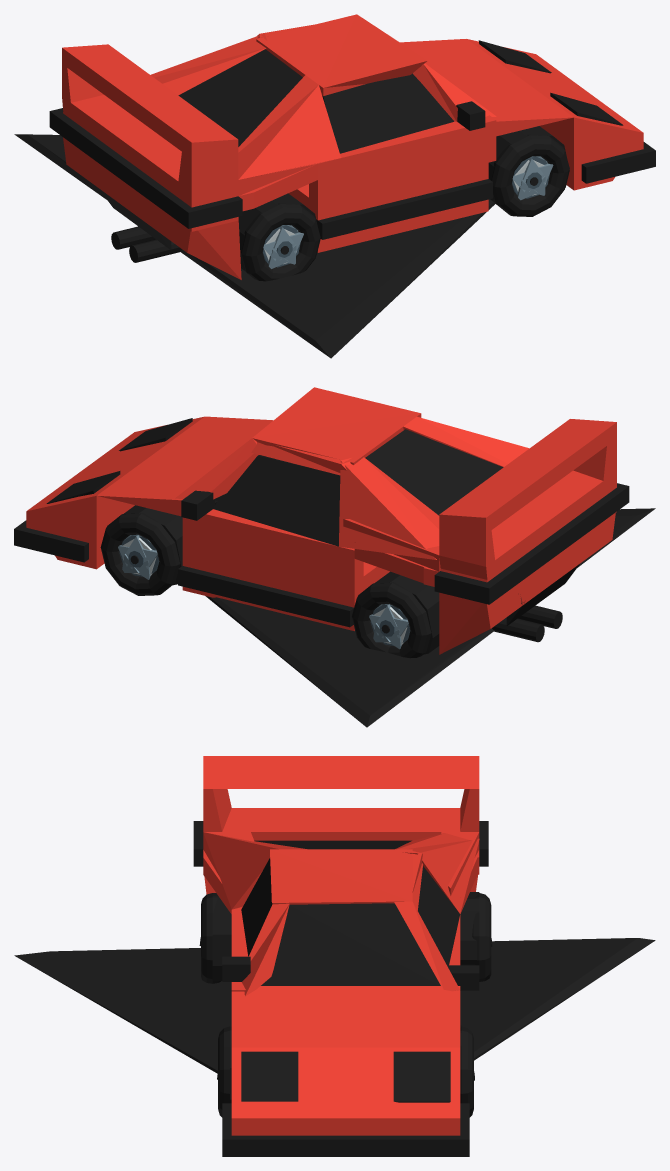
File: ferrari-f40-hp.glb
3 renders of one model, top to bottom at view 1: azimuth 30°, elevation 25°; view 2: azimuth 150°, elevation 25°; view 3: azimuth 270°, elevation 25°, orthographic. The views are drawn at different scales.
Parts seen in each view (by area): view 1: group1773901547, group956056105, group275570896, group198852036, group2031158171, group2092262242, group1923211778, group1388350157, group102746035, group216690391, group1360006440, group243197295 (+20 smaller); view 2: group1773901547, group198852036, group1449298864, group275570896, group2031158171, group1226397984, group351276238, group600872950, group102746035, group1388350157, group38904309, group243197295 (+24 smaller); view 3: group1773901547, group2031158171, group109924994, group1388350157, group198852036, group275570896, group1650314569, group875376599, group344841023, group1923211778, group398477270, group1825421313 (+17 smaller).
Boxes of the visible parts, x1,y1,x2,y2 form: group1773901547: (14, 134, 495, 358); group956056105: (309, 115, 496, 204); group275570896: (256, 14, 427, 95); group198852036: (62, 44, 237, 158); group2031158171: (400, 39, 573, 137); group2092262242: (322, 73, 453, 153); group1923211778: (238, 75, 340, 179); group1388350157: (467, 39, 643, 190); group102746035: (178, 49, 302, 146); group216690391: (488, 126, 569, 216); group1360006440: (238, 193, 320, 281); group243197295: (288, 162, 488, 252); group1773901547: (205, 508, 655, 727); group198852036: (439, 419, 616, 533); group1449298864: (213, 455, 340, 546); group275570896: (252, 387, 421, 464); group2031158171: (97, 416, 273, 516); group1226397984: (339, 457, 439, 559); group351276238: (352, 571, 439, 658); group600872950: (100, 505, 182, 595); group102746035: (365, 429, 503, 515); group1388350157: (26, 416, 204, 569); group38904309: (182, 509, 346, 586); group243197295: (182, 541, 389, 631); group1773901547: (14, 938, 655, 1073); group2031158171: (231, 986, 460, 1047); group109924994: (261, 903, 440, 985); group1388350157: (231, 1047, 460, 1118); group198852036: (203, 756, 479, 788); group275570896: (270, 849, 412, 904); group1650314569: (241, 808, 460, 840); group875376599: (222, 1123, 469, 1156); group344841023: (231, 1118, 460, 1135); group1923211778: (203, 832, 306, 909); group398477270: (393, 1051, 450, 1102); group1825421313: (241, 1051, 298, 1101).
Size of the model in its own units: 0.62 by 0.2075 by 0.6744.
